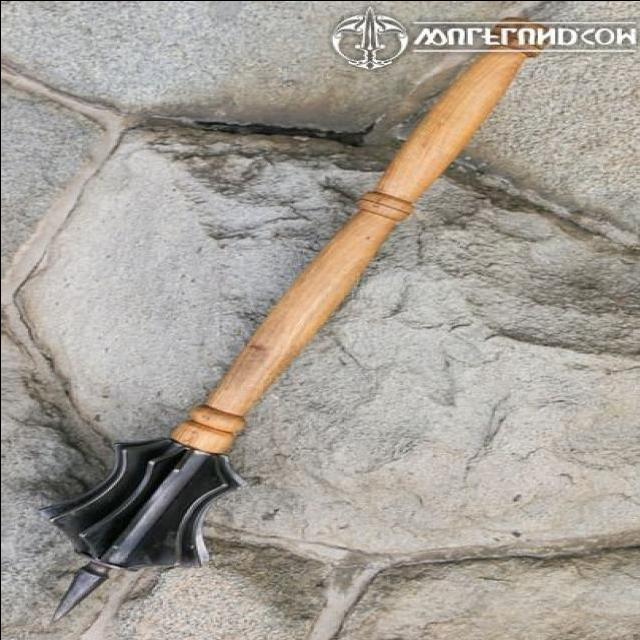mace: (42, 64, 520, 622)
